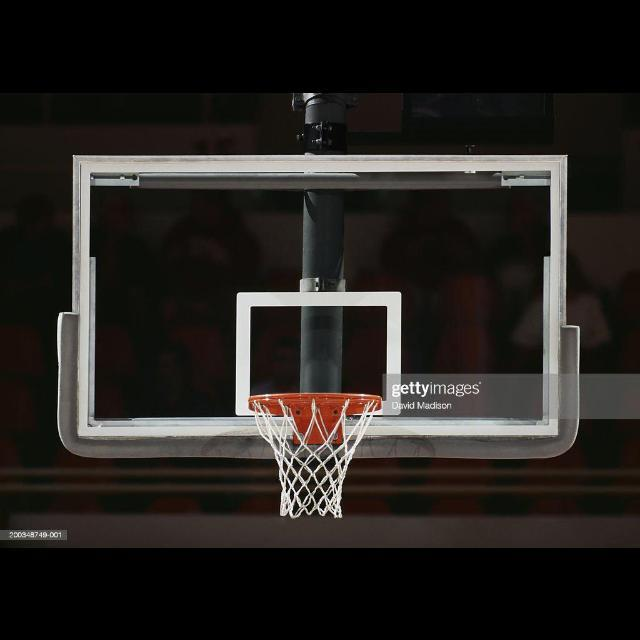rim: (248, 392, 382, 518)
